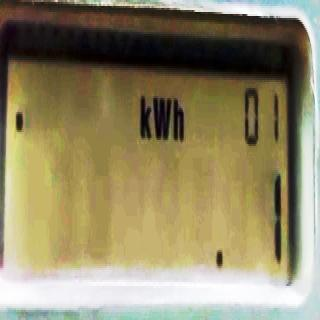-: (214, 245, 224, 269), (15, 106, 23, 134)
0: (244, 79, 259, 154)
1: (272, 165, 284, 270), (272, 84, 280, 154)
